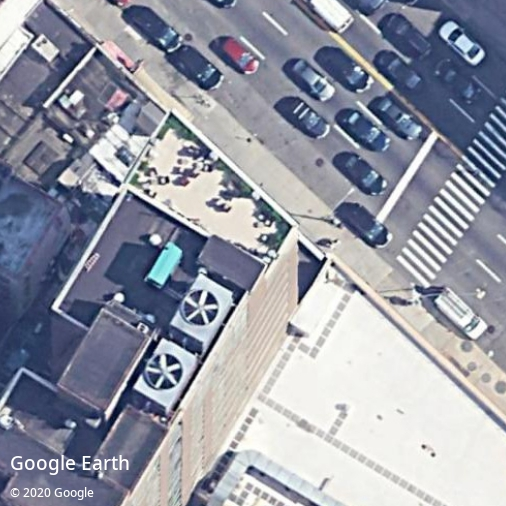Vent: (145, 353, 183, 391), (182, 290, 219, 326)
